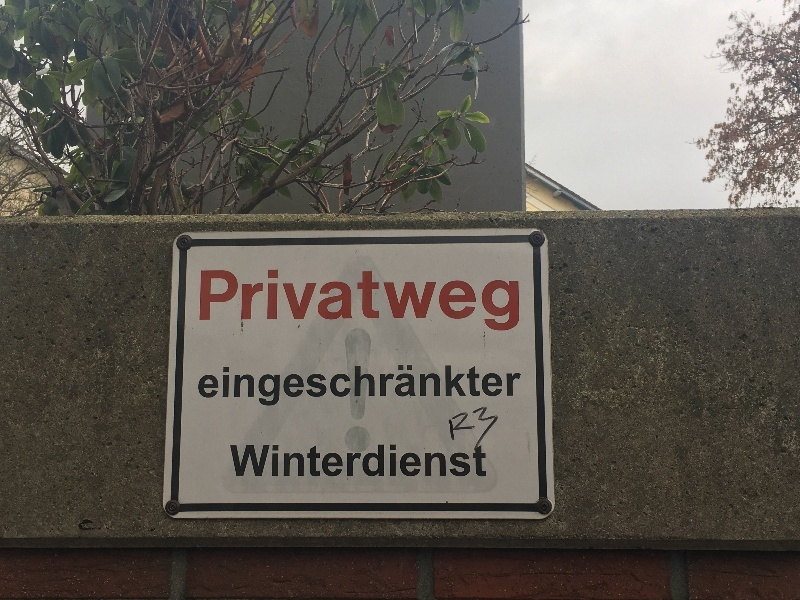text: (449, 402, 464, 472), (465, 402, 480, 472), (481, 402, 496, 472), (209, 269, 224, 333), (225, 269, 240, 333), (241, 269, 256, 333), (257, 269, 272, 333), (273, 269, 288, 333), (289, 269, 304, 333), (305, 269, 320, 333), (321, 269, 336, 333), (337, 269, 352, 333), (353, 269, 368, 333), (369, 269, 384, 333), (385, 269, 400, 333), (401, 269, 416, 333), (417, 269, 432, 333), (433, 269, 448, 333), (449, 269, 464, 333), (465, 269, 480, 333), (481, 269, 496, 333), (497, 269, 512, 333), (209, 364, 224, 410), (225, 364, 240, 410), (241, 364, 256, 410), (257, 364, 272, 410), (273, 364, 288, 410), (289, 364, 304, 410), (305, 364, 320, 410), (321, 364, 336, 410), (337, 364, 352, 410), (353, 364, 368, 410), (369, 364, 384, 410), (385, 364, 400, 410), (401, 364, 416, 410), (417, 364, 432, 410), (433, 364, 448, 410), (449, 364, 464, 410), (465, 364, 480, 410), (481, 364, 496, 410), (497, 364, 512, 410), (513, 364, 526, 410), (200, 269, 208, 333), (241, 444, 256, 478), (257, 444, 272, 478), (273, 444, 288, 478), (289, 444, 304, 478), (305, 444, 320, 478), (321, 444, 336, 478), (337, 444, 352, 478), (353, 444, 368, 478), (369, 444, 384, 478), (385, 444, 400, 478), (401, 444, 416, 478), (417, 444, 432, 478), (433, 444, 448, 478), (449, 444, 464, 478), (465, 444, 480, 478), (497, 402, 504, 472), (513, 269, 520, 333), (199, 364, 208, 410), (230, 444, 240, 478), (481, 444, 487, 478)
